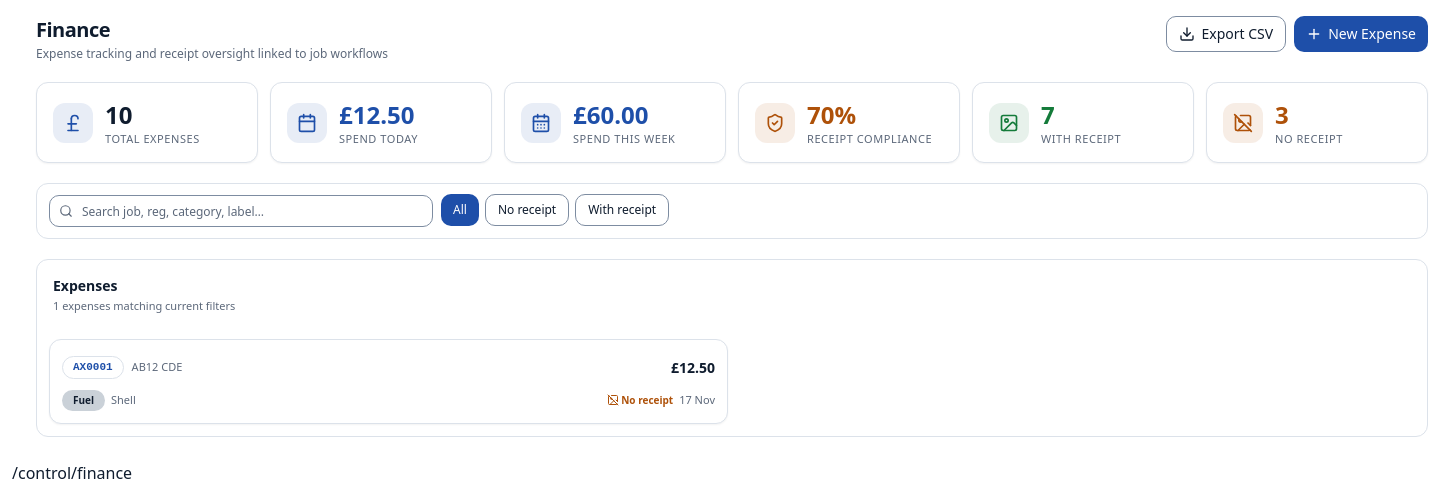
it: Finance screen › compliance tile filters to expenses without a receipt
This screenshot has width=1445, height=500.
Step 1. Click the button "receipt compliance 70%" → (849, 123), box [738, 82, 960, 163]
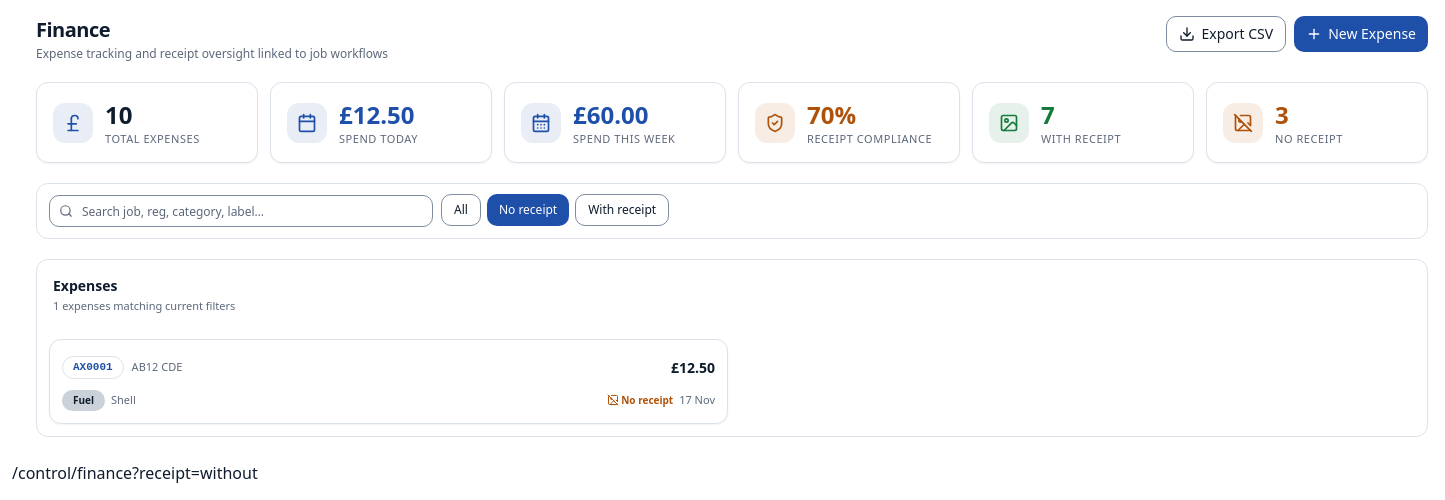
expect the text with test id "loc" reads "/control/finance?receipt=without": met, box [12, 462, 258, 484]
